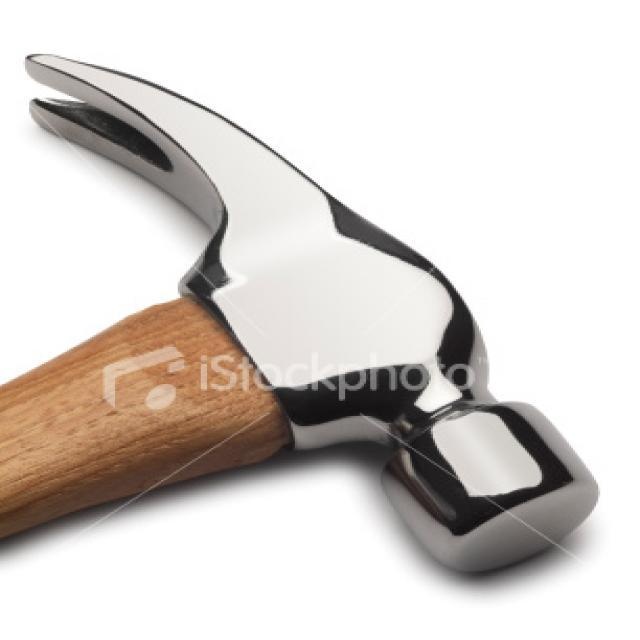hammer: (0, 52, 596, 584)
